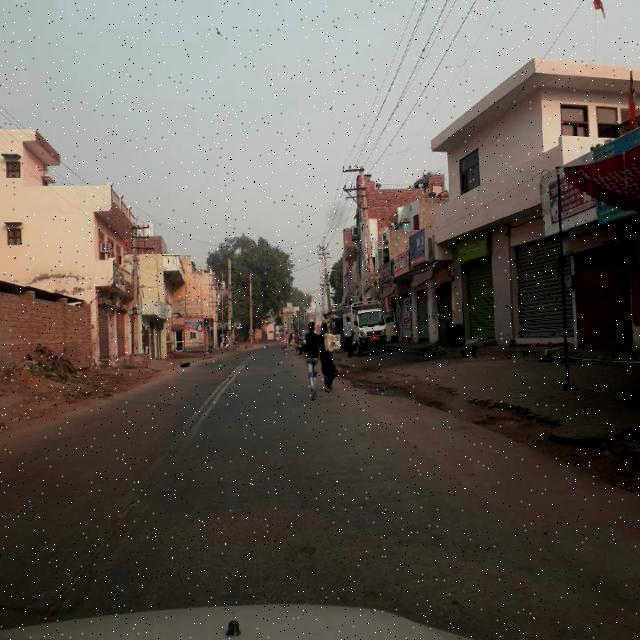D01: (105, 462, 159, 548), (51, 537, 105, 623)
